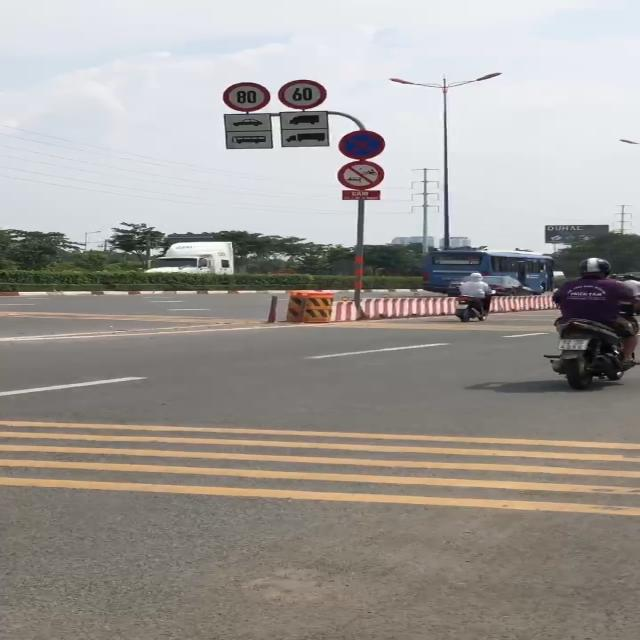Bien bao cam dung xe va do xe: (334, 127, 397, 159)
Bien bao toc do toi da cho phep: (274, 78, 332, 111), (222, 81, 275, 113)
